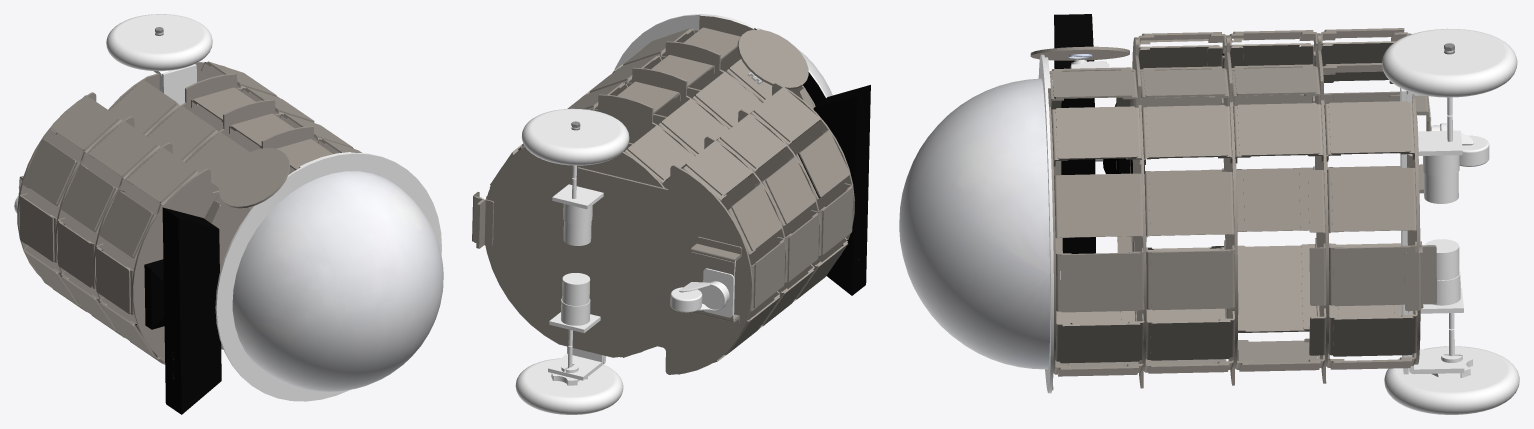
File: mainbody (另一个复件).dae
The picture shows the model from 3 angles, left to right: view 1: azimuth 30°, elevation 25°; view 2: azimuth 150°, elevation 25°; view 3: azimuth 270°, elevation 25°; orthographic projection. The views are drawn at different scales.
Parts seen in each view (by area): view 1: Actor0; view 2: Actor0; view 3: Actor0.
Boxes of the visible parts, x1=… form: Actor0: x1=14, y1=14, x2=443, y2=414; Actor0: x1=472, y1=14, x2=870, y2=414; Actor0: x1=899, y1=14, x2=1519, y2=414.
Size of the model in its own units: 0.4216 by 0.3885 by 0.6245.
